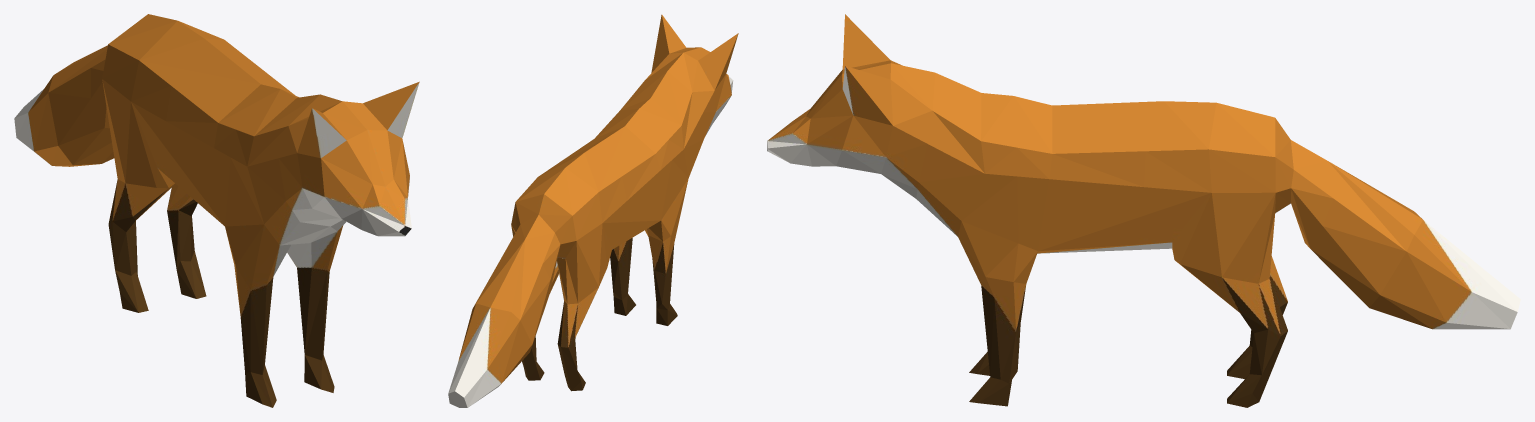
File: Fox.gltf
The picture shows the model from 3 angles, left to right: view 1: azimuth 30°, elevation 25°; view 2: azimuth 150°, elevation 25°; view 3: azimuth 270°, elevation 25°; orthographic projection. The views are drawn at different scales.
Parts seen in each view (by area): view 1: fox; view 2: fox; view 3: fox.
Boxes of the visible parts, left/top/right/bottom form: fox: left=14, top=14, right=419, bottom=407; fox: left=448, top=14, right=738, bottom=407; fox: left=767, top=14, right=1520, bottom=407.
Bounding box in the file's own units: 25.19 × 79.03 × 155.
Materials: 1 (1 with a texture image).
